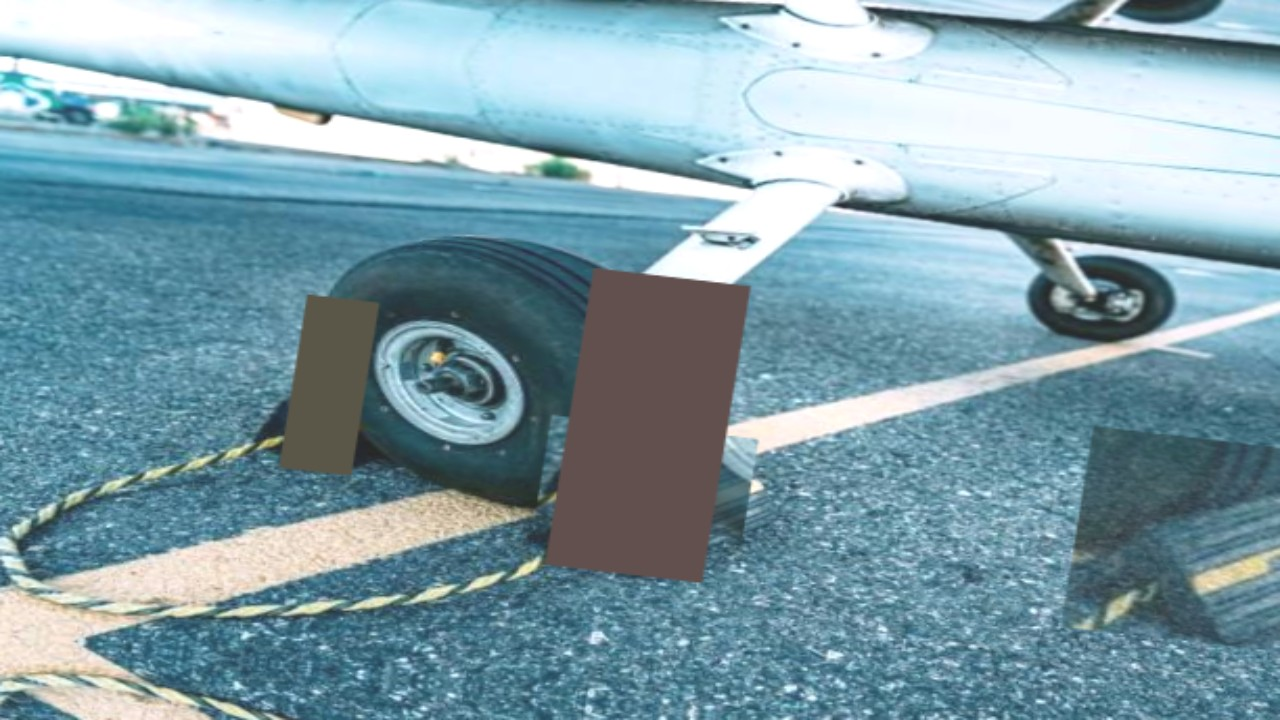chock: (1061, 426, 1280, 669), (517, 422, 799, 594), (535, 415, 759, 539), (246, 376, 431, 479)
wheel: (290, 217, 732, 526), (1023, 243, 1189, 351), (1074, 0, 1241, 35)
